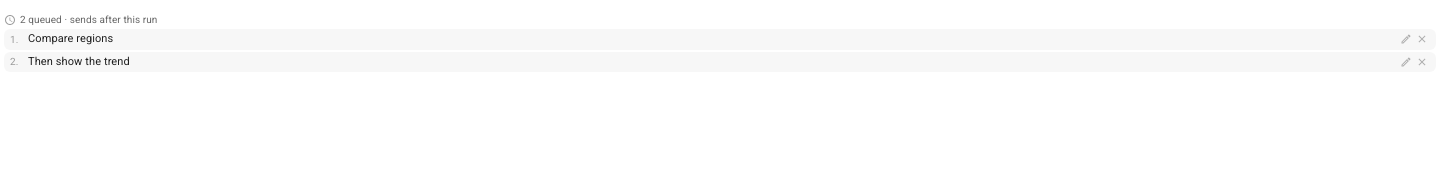
Scenario: QueuedMessageList › cancels an edit with Escape
The image size is (1440, 172).
Click the button named "Edit" in the row of "Compare regions" at [1406, 39], box [1398, 31, 1414, 47]
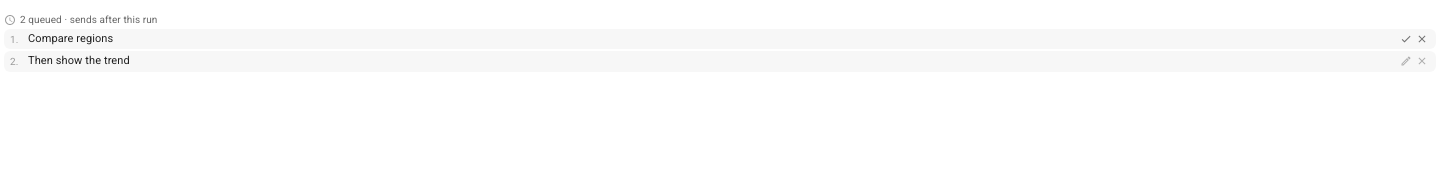
Replace the text in the text box named "Edit queued message" with "changed" at [711, 39], box [28, 31, 1394, 47]
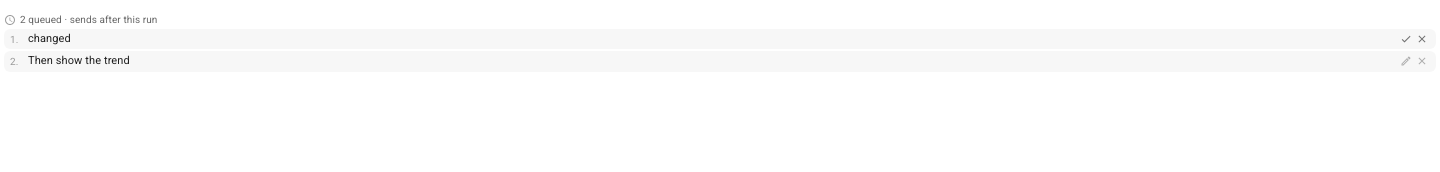
Press Escape in the text box named "Edit queued message", box [28, 31, 1394, 47]
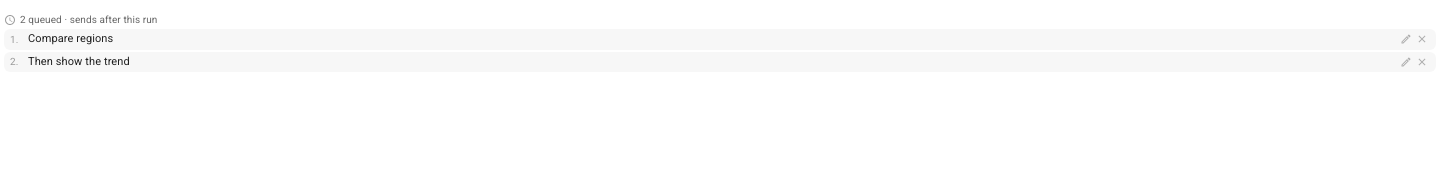
Expected: the text "Compare regions" is shown, [28, 32, 113, 45]
